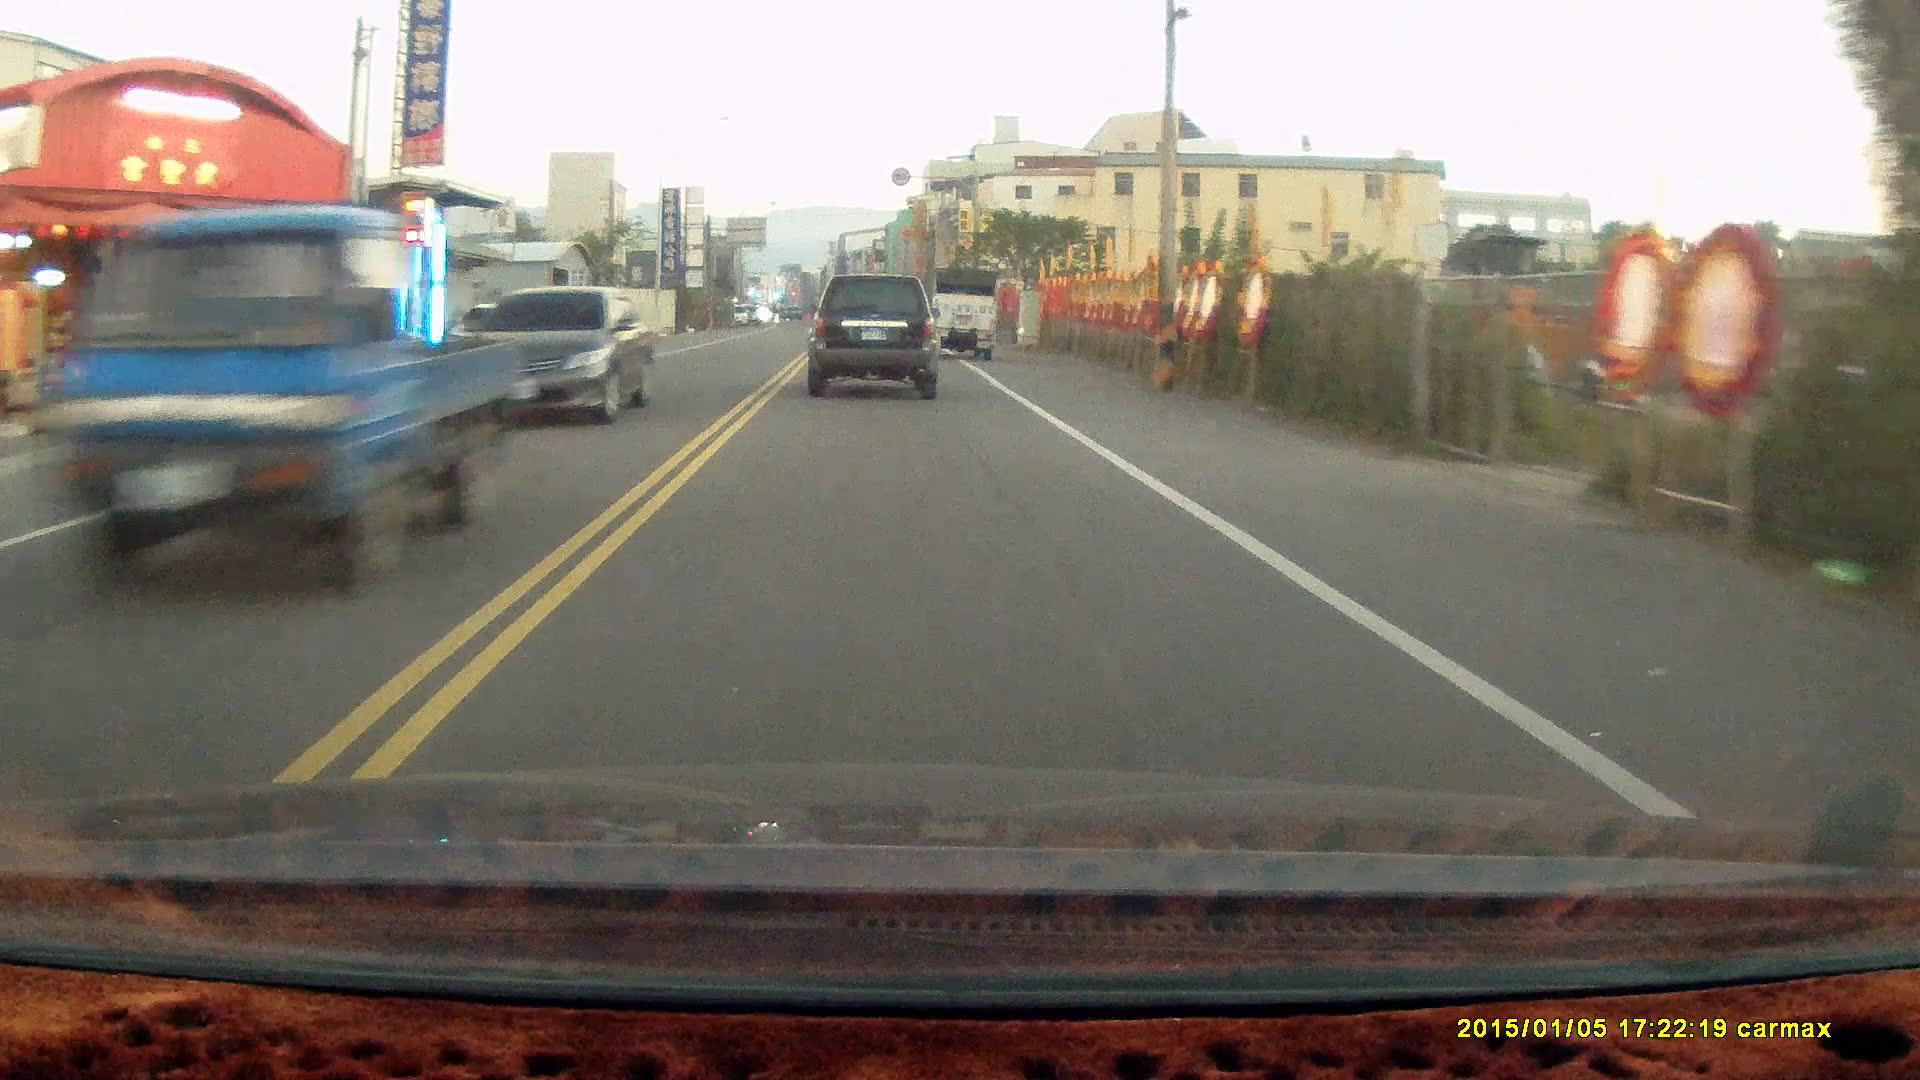vehicle: (79, 200, 512, 597), (469, 284, 655, 429), (804, 270, 940, 400), (928, 262, 1002, 356)
